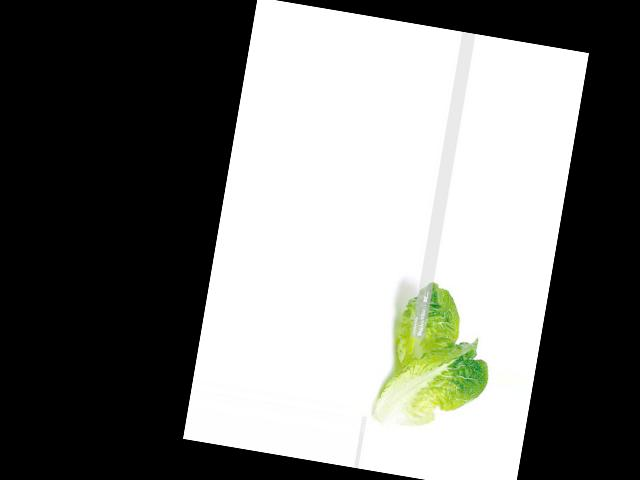lettuce: (371, 306, 475, 430)
